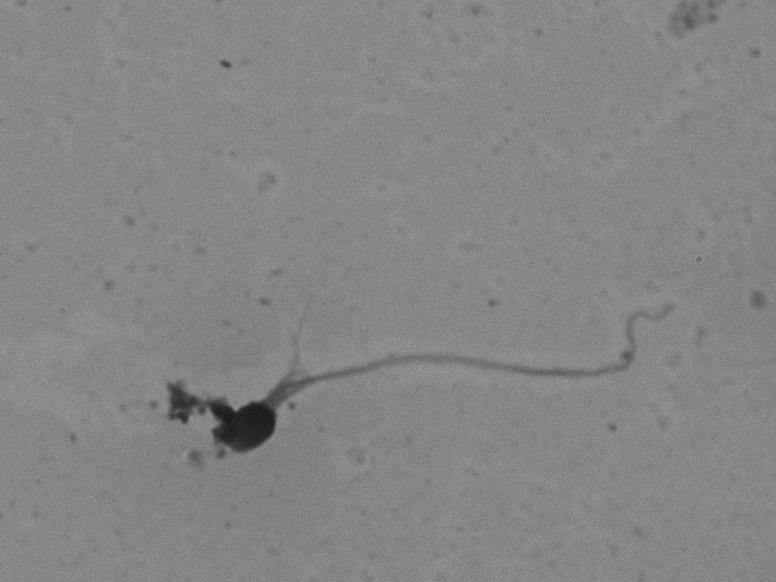Abnormal: (203, 249, 676, 479)
